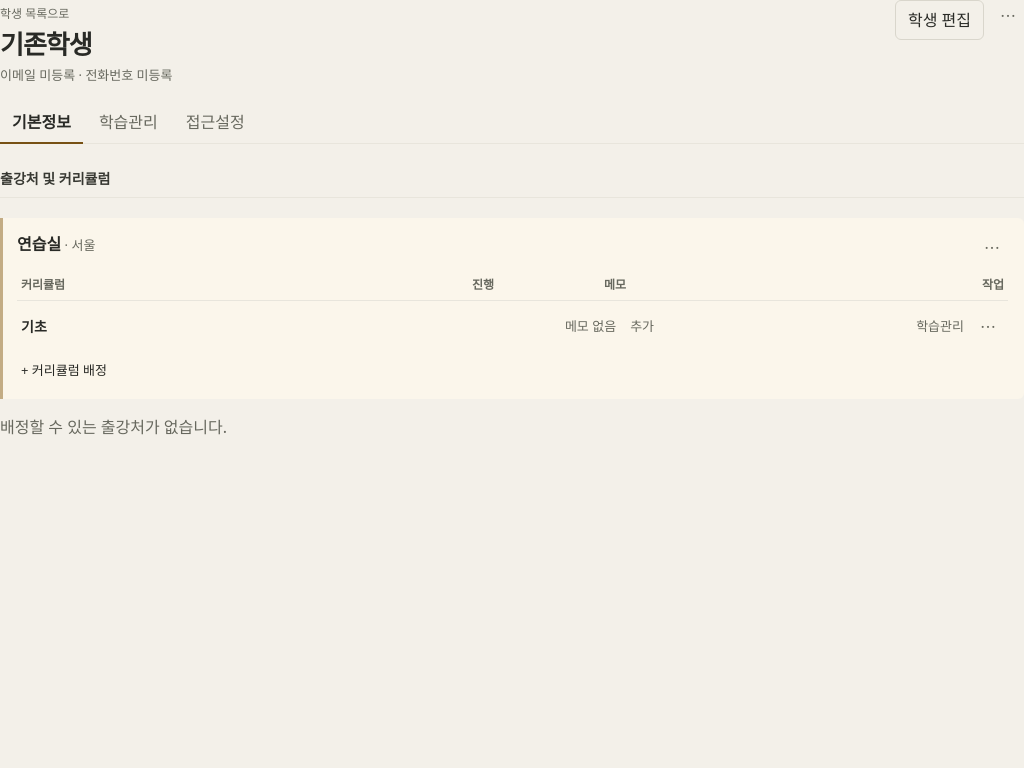
Test: asks before releasing a location and then refetches learning
Click the button named "연습실 작업".
click(992, 248)  # box [976,232,1008,264]
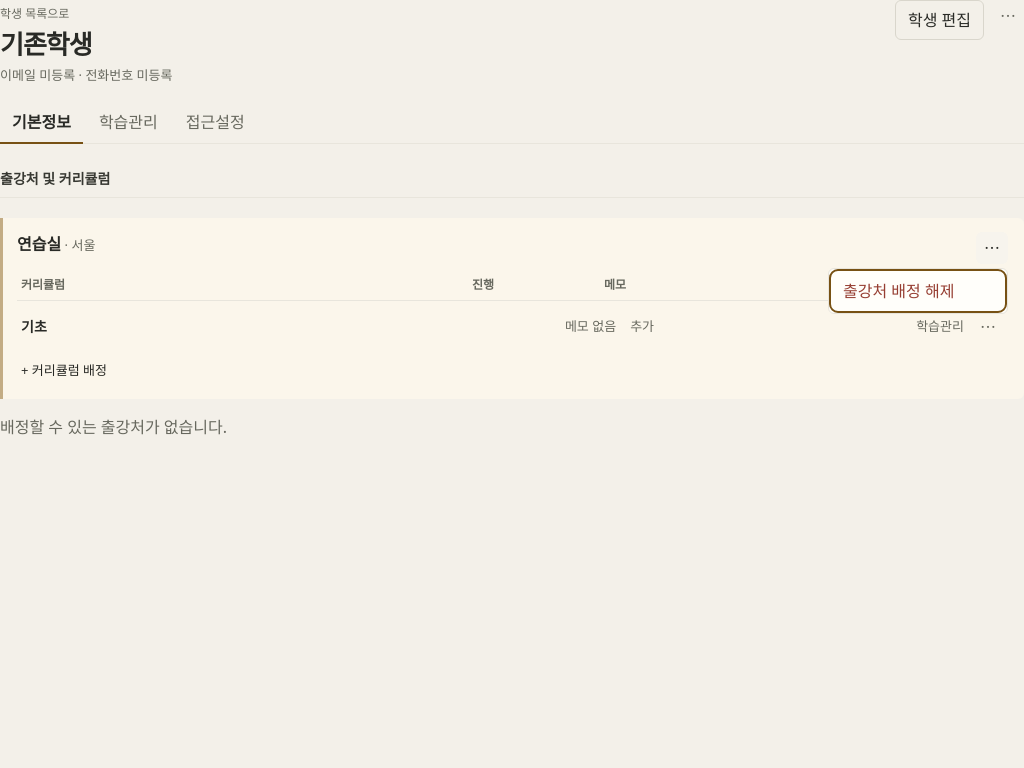
Press Escape
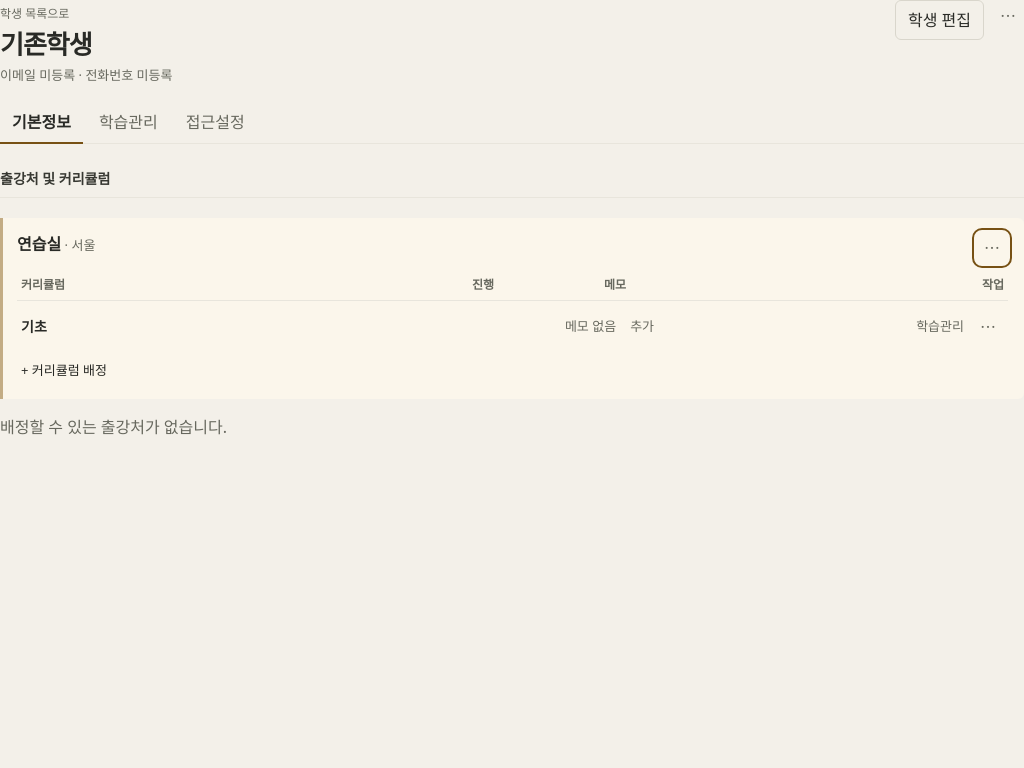
Expected: the menu item "출강처 배정 해제" is gone
Click the button named "연습실 작업".
click(992, 248)  # box [976,232,1008,264]
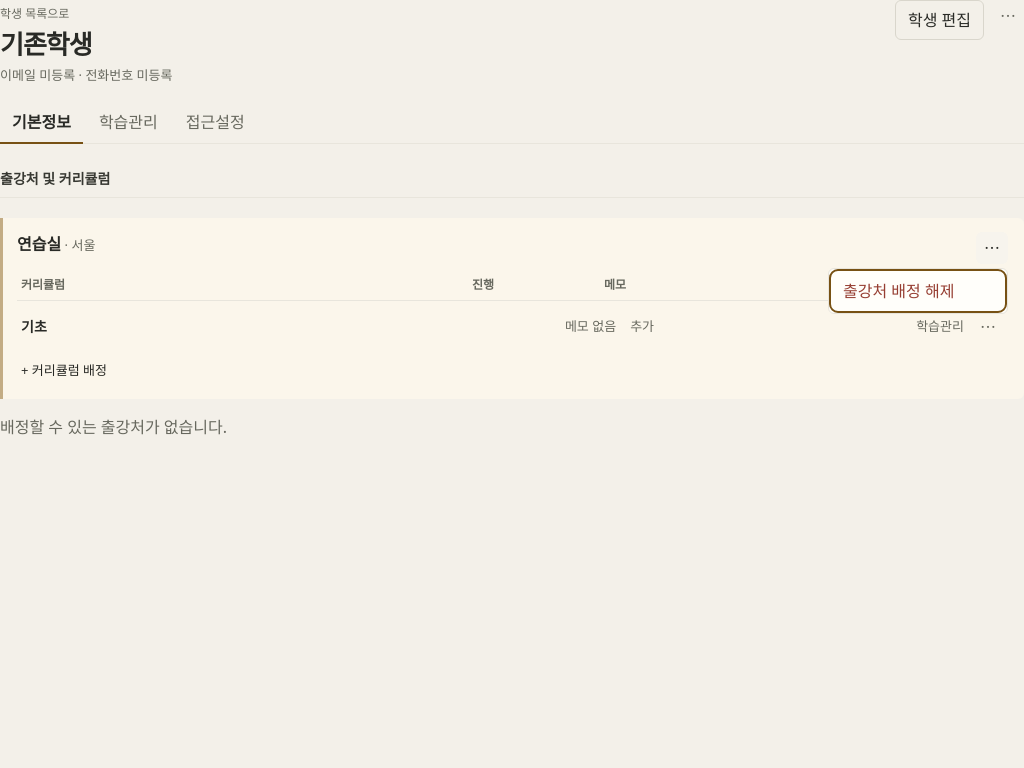
Click the menu item "출강처 배정 해제".
click(918, 290)  # box [833,272,1003,308]
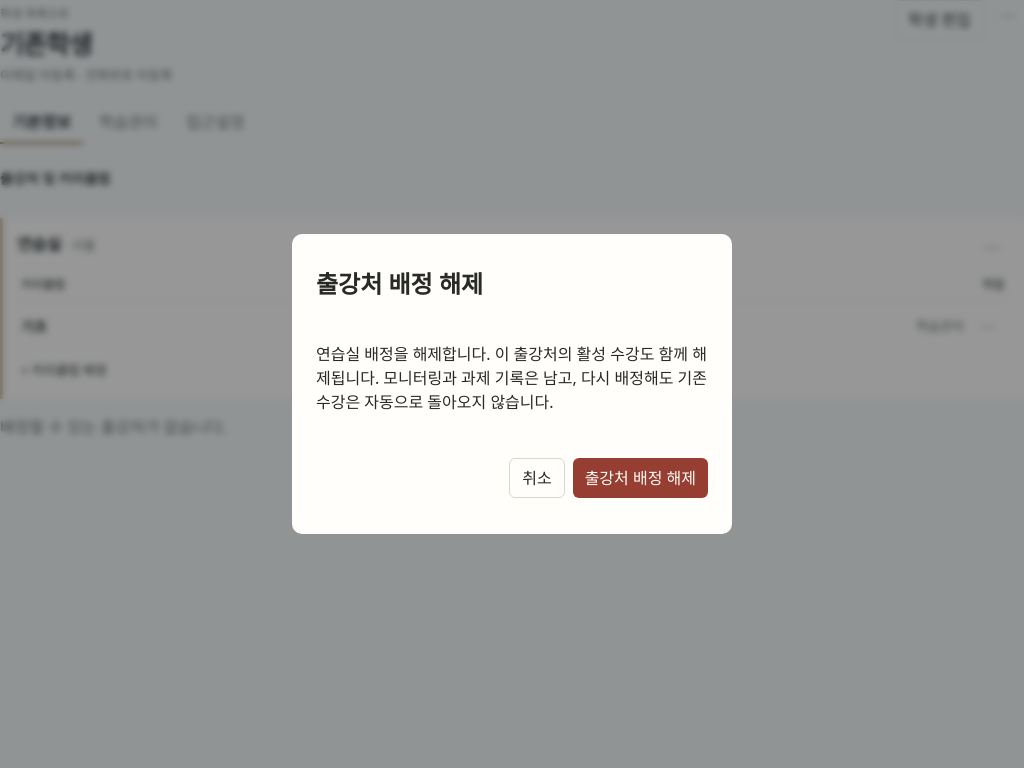
Expected: the dialog "출강처 배정 해제" shows "활성 수강", [316,343,707,413]
Expected: the dialog "출강처 배정 해제" shows "자동으로 돌아오지 않습니다", [316,343,707,413]
Click the button "출강처 배정 해제".
click(640, 478)  # box [573,458,708,498]
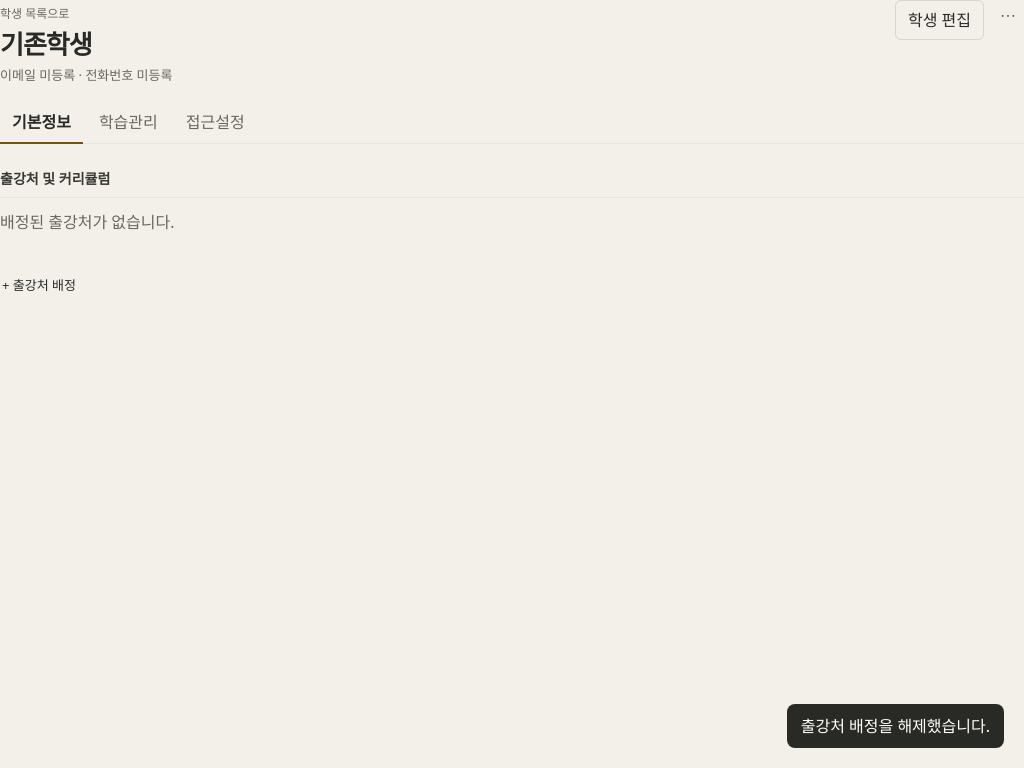
Expected: the text "배정된 출강처가 없습니다." is shown, [0,210,174,232]
